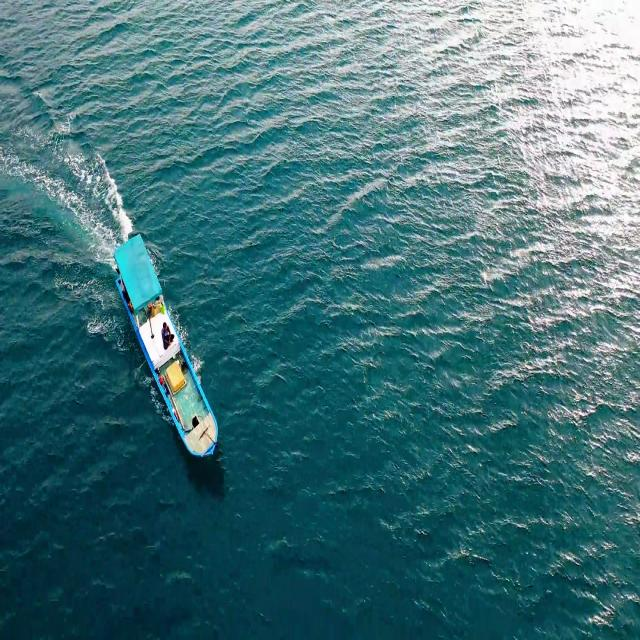ship: (109, 229, 230, 465)
